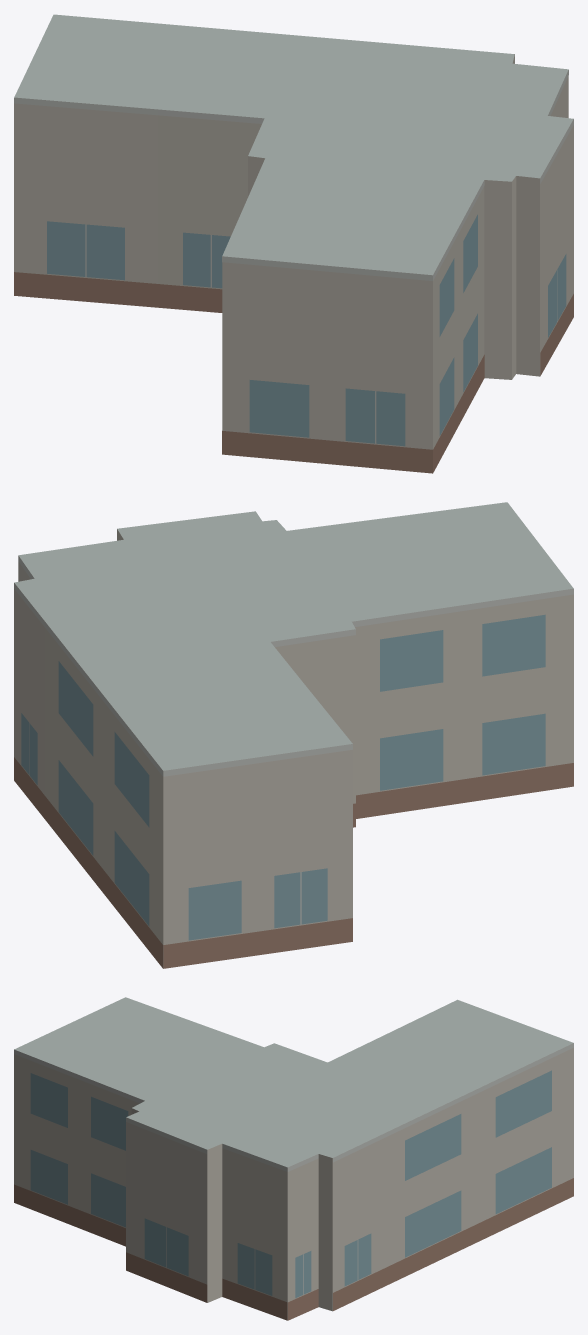
Rendered from survey-upis-32469234.glb.
The picture shows the model from 3 angles, top to bottom: view 1: azimuth 30°, elevation 25°; view 2: azimuth 150°, elevation 25°; view 3: azimuth 270°, elevation 25°; orthographic projection. The views are drawn at different scales.
Visible parts, largest first — view 1: survey-upis-32469234.tmp; view 2: survey-upis-32469234.tmp; view 3: survey-upis-32469234.tmp.
Part boxes in pixels (x1,y1,x2,y2): survey-upis-32469234.tmp: [14, 14, 573, 473]; survey-upis-32469234.tmp: [14, 502, 573, 968]; survey-upis-32469234.tmp: [14, 997, 573, 1320].
Bounding box in the file's own units: 19.43 × 8.15 × 26.99.
